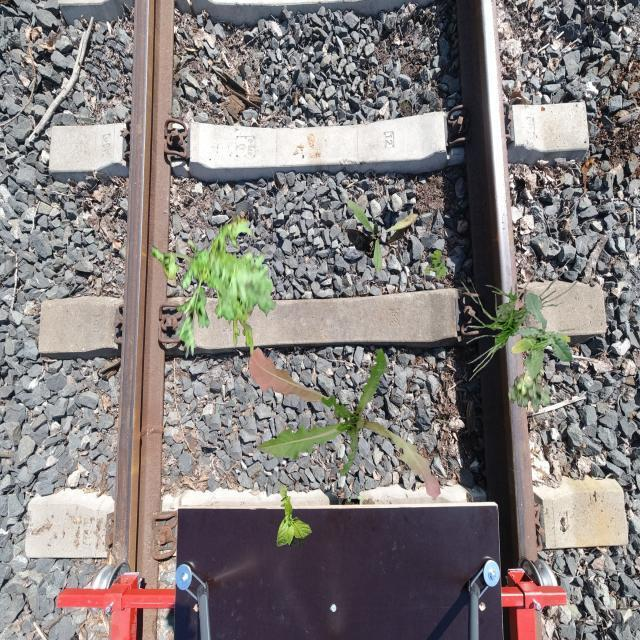Plant: (248, 347, 440, 499), (152, 212, 277, 359), (459, 258, 578, 380), (511, 291, 574, 384), (347, 200, 418, 274), (277, 485, 312, 548), (508, 364, 552, 414), (425, 249, 449, 280)
